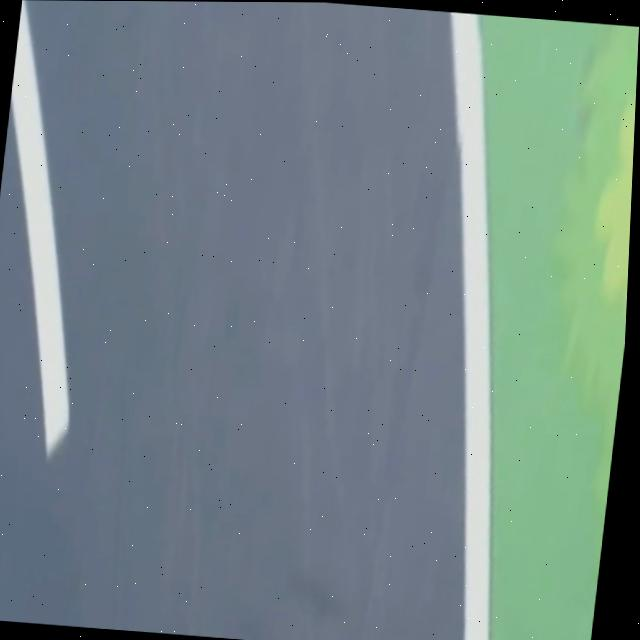center: (10, 0, 68, 456)
right: (450, 12, 490, 640)
